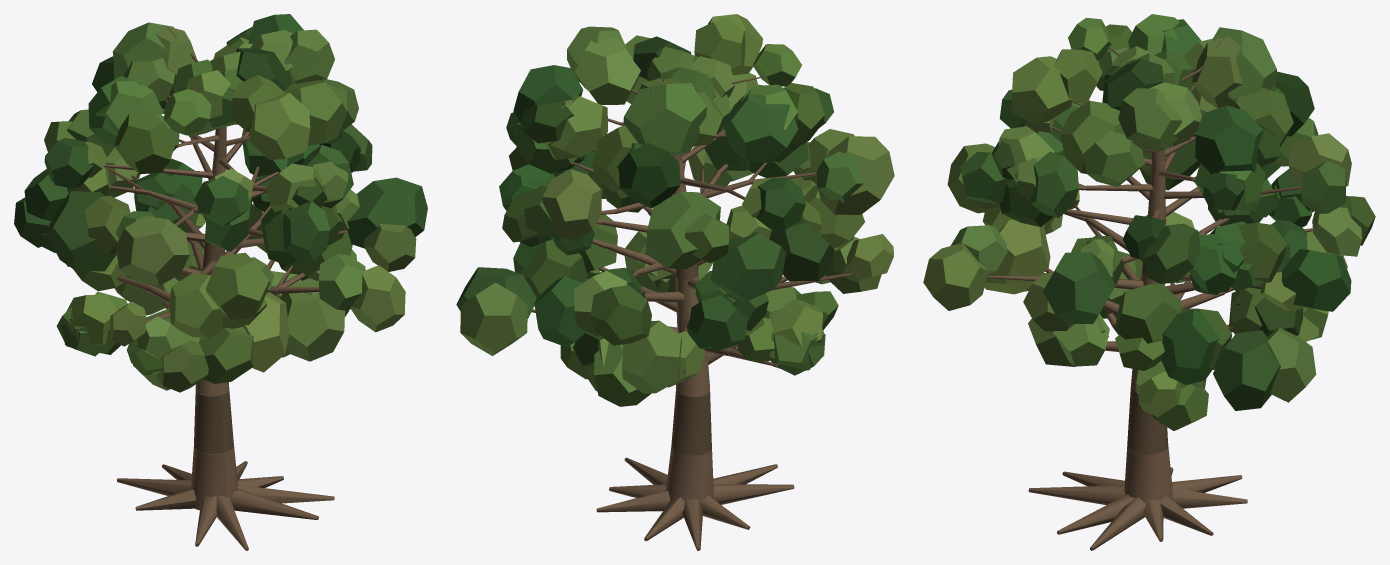
File: tree_normal_large_ancient_a.glb
3 views of the same model, side by side, from view 1: azimuth 30°, elevation 25°; view 2: azimuth 150°, elevation 25°; view 3: azimuth 270°, elevation 25° (orthographic). The views are drawn at different scales.
Parts seen in each view (by area): view 1: leaves, wood; view 2: leaves, wood; view 3: leaves, wood.
Boxes of the visible parts, <box> form: leaves: <box>14,14,427,392</box>; wood: <box>103,26,347,550</box>; leaves: <box>456,14,894,406</box>; wood: <box>531,76,853,550</box>; leaves: <box>923,14,1375,430</box>; wood: <box>986,36,1313,550</box>.
Size of the model in its own units: 15.54 by 20.7 by 18.09.
